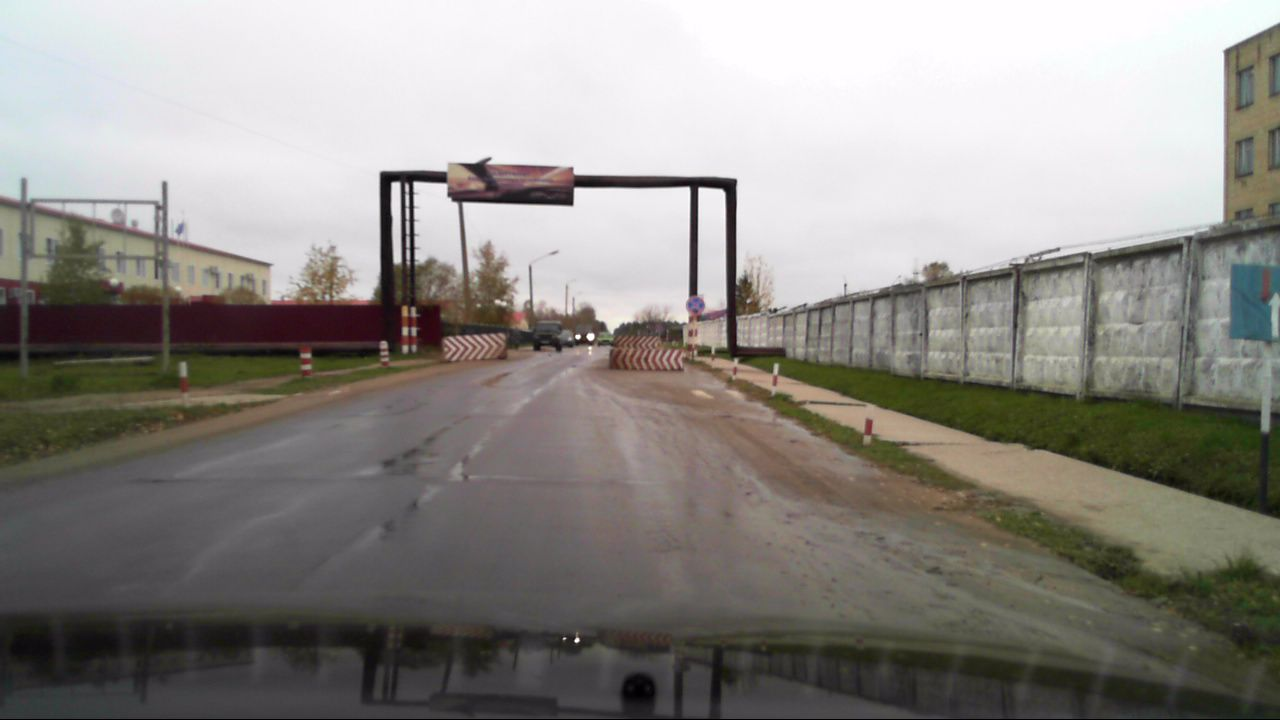No Parking: (684, 296, 704, 315)
